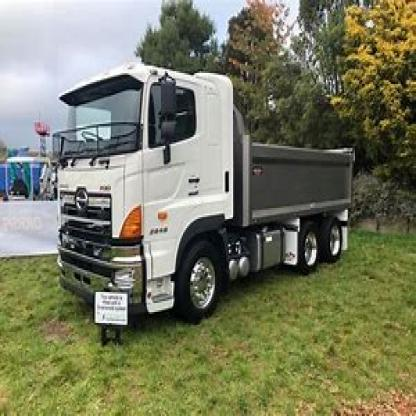dump_truck: (44, 49, 370, 332)
